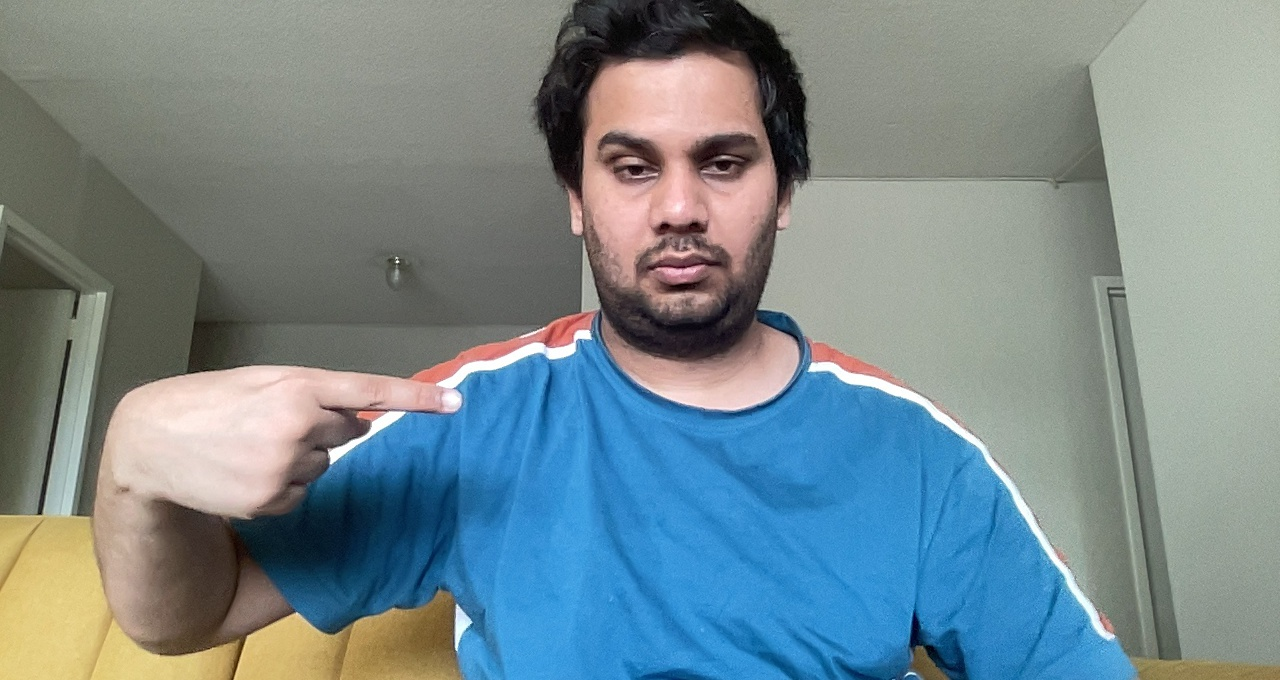fingerleft: (99, 361, 469, 525)
